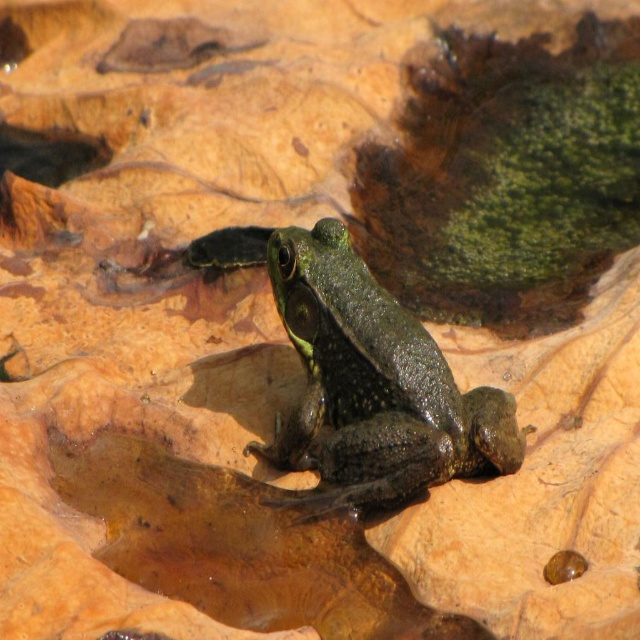Frog: (244, 219, 536, 526)
